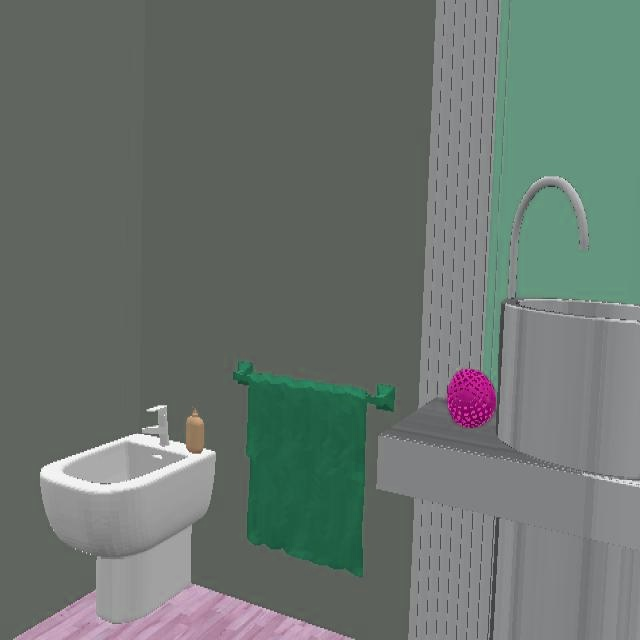washbasin: (499, 177, 639, 478), (41, 434, 216, 558)
